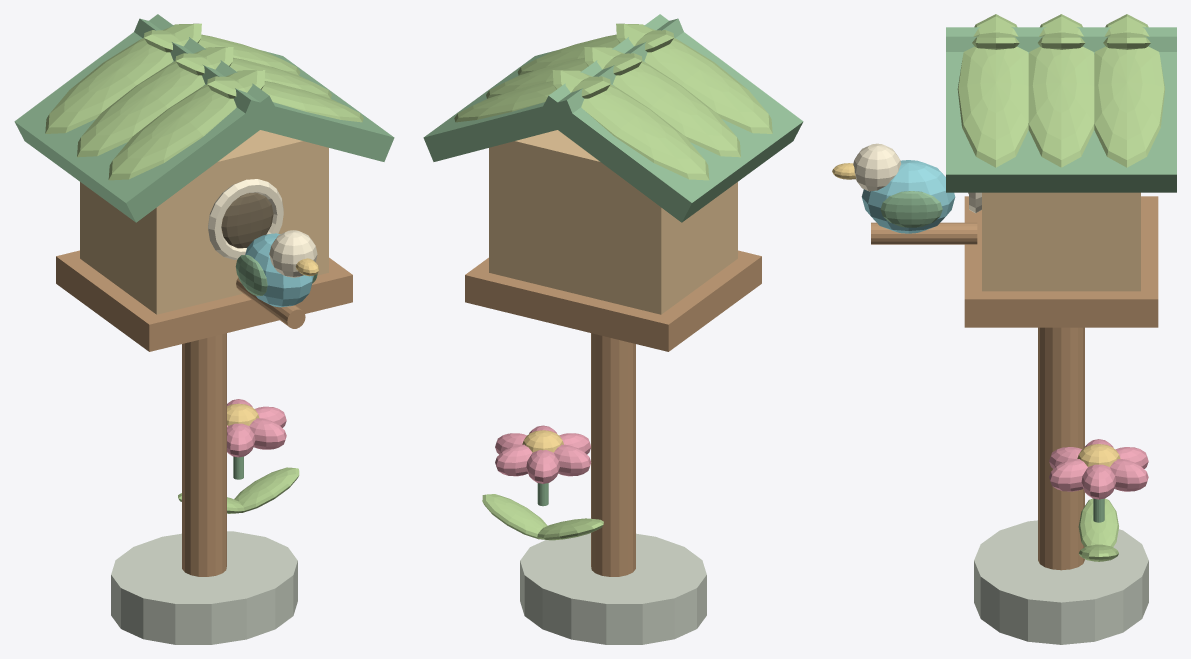
Rendered from Birdhouse.fbx.
3 renders of one model, left to right at view 1: azimuth 30°, elevation 25°; view 2: azimuth 150°, elevation 25°; view 3: azimuth 270°, elevation 25°, orthographic. The views are drawn at different scales.
Parts seen in each view (by area): view 1: Birdhouse_Collection fresh leaf, Birdhouse_Collection pale oak, Birdhouse_Collection honey oak, Birdhouse_Collection sage, Birdhouse_Collection limestone, Birdhouse_Collection ivory, Birdhouse_Collection rose, Birdhouse_Collection shadow, Birdhouse_Collection turquoise water, Birdhouse_Collection warm brass; view 2: Birdhouse_Collection pale oak, Birdhouse_Collection fresh leaf, Birdhouse_Collection honey oak, Birdhouse_Collection sage, Birdhouse_Collection limestone, Birdhouse_Collection rose, Birdhouse_Collection warm brass; view 3: Birdhouse_Collection fresh leaf, Birdhouse_Collection honey oak, Birdhouse_Collection sage, Birdhouse_Collection pale oak, Birdhouse_Collection limestone, Birdhouse_Collection rose, Birdhouse_Collection turquoise water, Birdhouse_Collection ivory, Birdhouse_Collection warm brass.
Part boxes in pixels (x1,y1,x2,y2): Birdhouse_Collection fresh leaf: (45, 23, 363, 513); Birdhouse_Collection pale oak: (80, 130, 328, 314); Birdhouse_Collection honey oak: (56, 250, 352, 576); Birdhouse_Collection sage: (14, 14, 394, 479); Birdhouse_Collection limestone: (111, 531, 297, 644); Birdhouse_Collection ivory: (208, 179, 317, 277); Birdhouse_Collection rose: (227, 399, 286, 457); Birdhouse_Collection shadow: (221, 192, 273, 248); Birdhouse_Collection turquoise water: (245, 233, 313, 307); Birdhouse_Collection warm brass: (227, 258, 318, 425); Birdhouse_Collection pale oak: (489, 130, 737, 314); Birdhouse_Collection fresh leaf: (454, 23, 772, 540); Birdhouse_Collection honey oak: (465, 250, 761, 576); Birdhouse_Collection sage: (423, 14, 803, 506); Birdhouse_Collection limestone: (520, 533, 706, 644); Birdhouse_Collection rose: (495, 425, 591, 483); Birdhouse_Collection warm brass: (522, 430, 563, 452); Birdhouse_Collection fresh leaf: (957, 14, 1165, 561); Birdhouse_Collection honey oak: (871, 196, 1158, 570); Birdhouse_Collection sage: (880, 27, 1176, 522); Birdhouse_Collection pale oak: (982, 192, 1140, 291); Birdhouse_Collection limestone: (974, 520, 1148, 644); Birdhouse_Collection rose: (1049, 439, 1148, 499); Birdhouse_Collection turquoise water: (861, 160, 955, 233); Birdhouse_Collection ivory: (853, 143, 981, 213); Birdhouse_Collection warm brass: (832, 163, 1120, 466).
Size of the model in its own units: 103 by 204 by 111.
